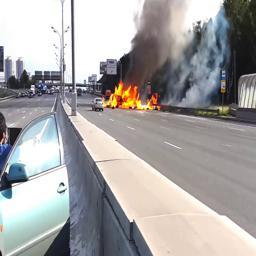fire: (104, 81, 161, 112)
